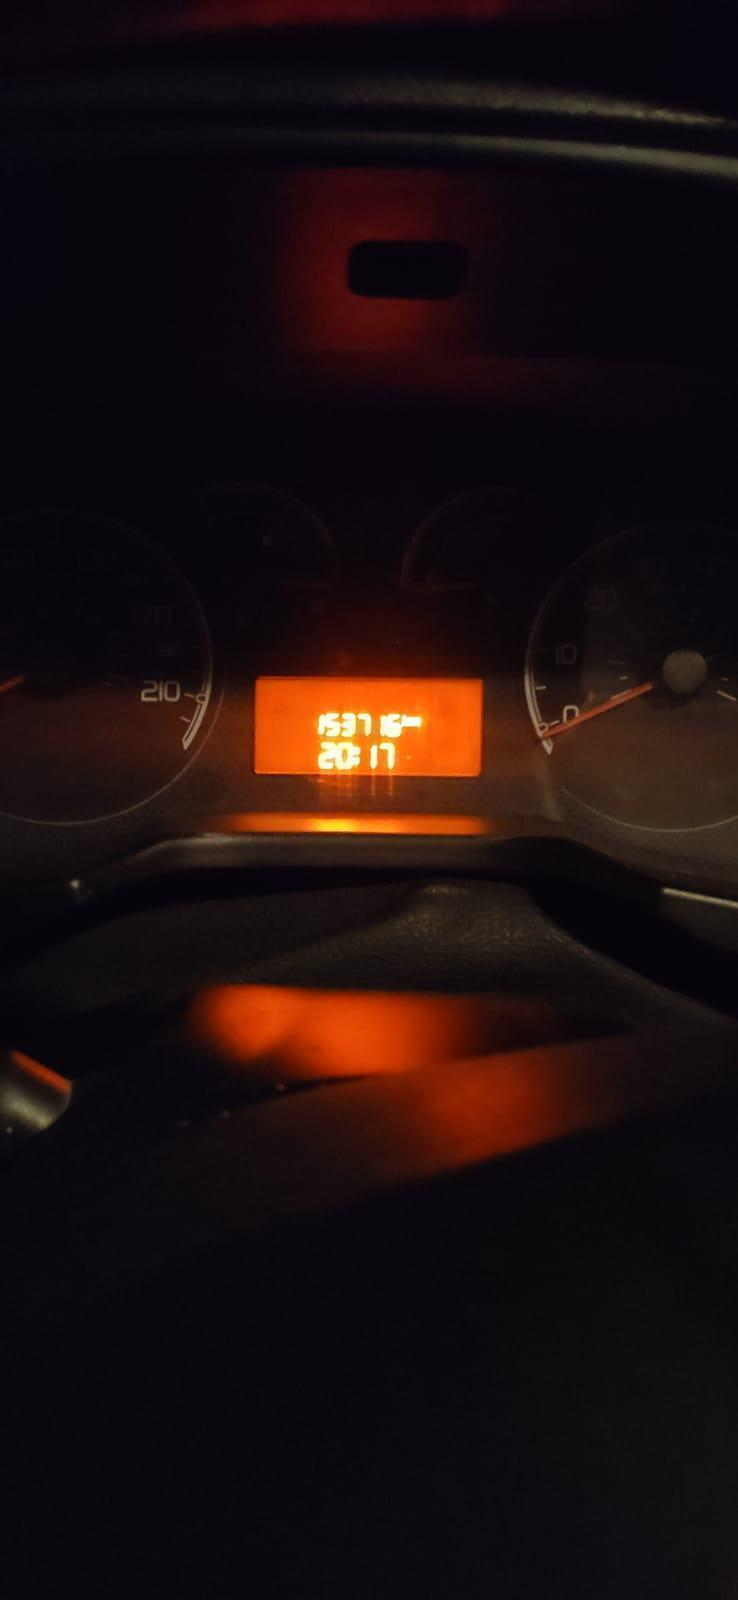0: (335, 742, 353, 769)
1: (370, 742, 379, 771), (316, 711, 325, 736), (379, 712, 386, 737)
2: (317, 741, 335, 770)
3: (341, 711, 356, 737)
5: (325, 711, 340, 737)
6: (387, 712, 401, 737)
7: (379, 740, 396, 769), (357, 711, 372, 737)
X: (353, 745, 362, 766), (411, 715, 424, 728), (402, 712, 411, 728)
odometer: (254, 676, 484, 776)
